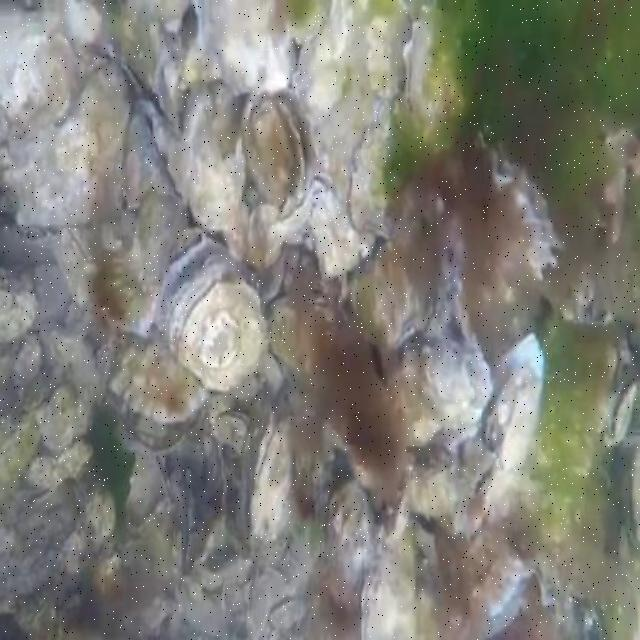Oyster-Closed: (57, 210, 158, 331), (265, 172, 372, 277), (385, 340, 492, 444), (192, 0, 296, 95), (345, 99, 408, 238), (449, 525, 522, 635), (352, 247, 432, 342), (325, 479, 378, 605), (294, 0, 349, 121), (404, 9, 448, 130), (410, 464, 485, 534), (252, 413, 295, 534), (45, 323, 98, 396), (368, 10, 409, 103), (85, 44, 150, 102), (43, 383, 91, 447), (522, 550, 565, 608), (79, 478, 116, 538), (279, 0, 330, 43), (606, 375, 637, 444), (624, 445, 640, 544), (214, 409, 249, 452), (14, 335, 43, 386)
Oyster-Open: (159, 238, 264, 391), (461, 337, 543, 528), (112, 321, 206, 451), (484, 143, 551, 301), (245, 86, 319, 199), (361, 518, 418, 640), (462, 437, 496, 491)
